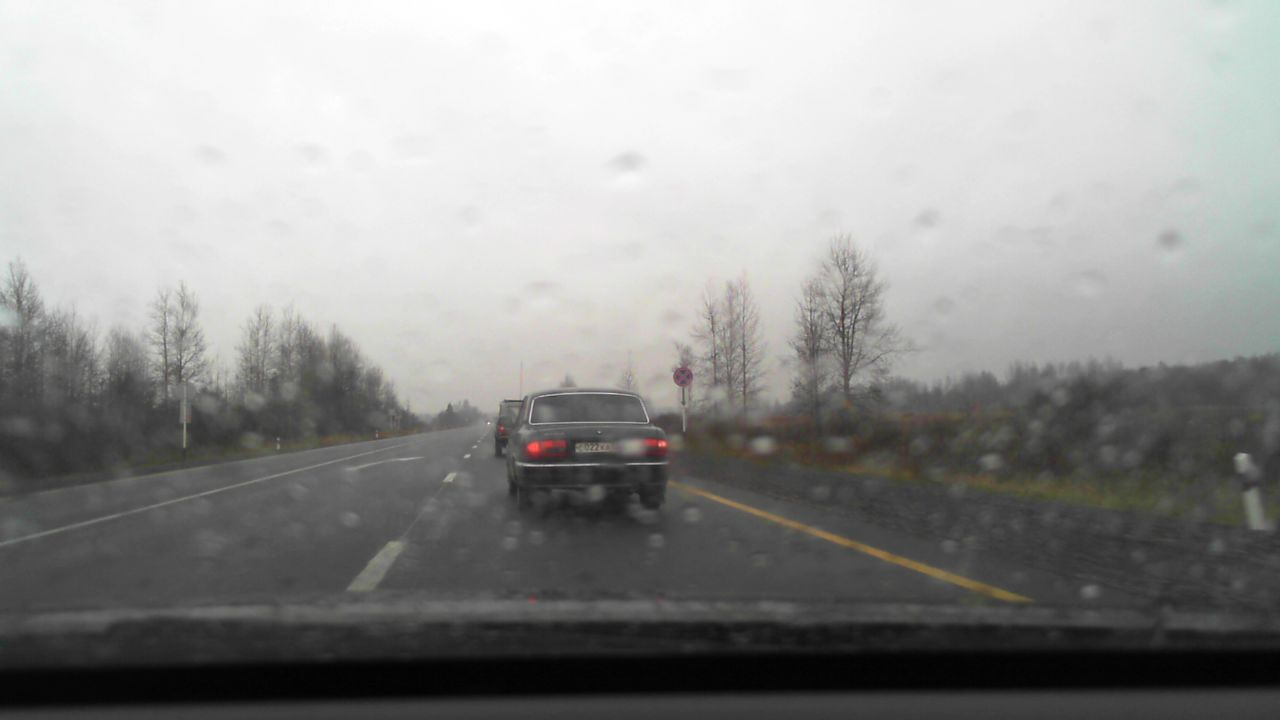No Parking: (672, 366, 693, 387)
